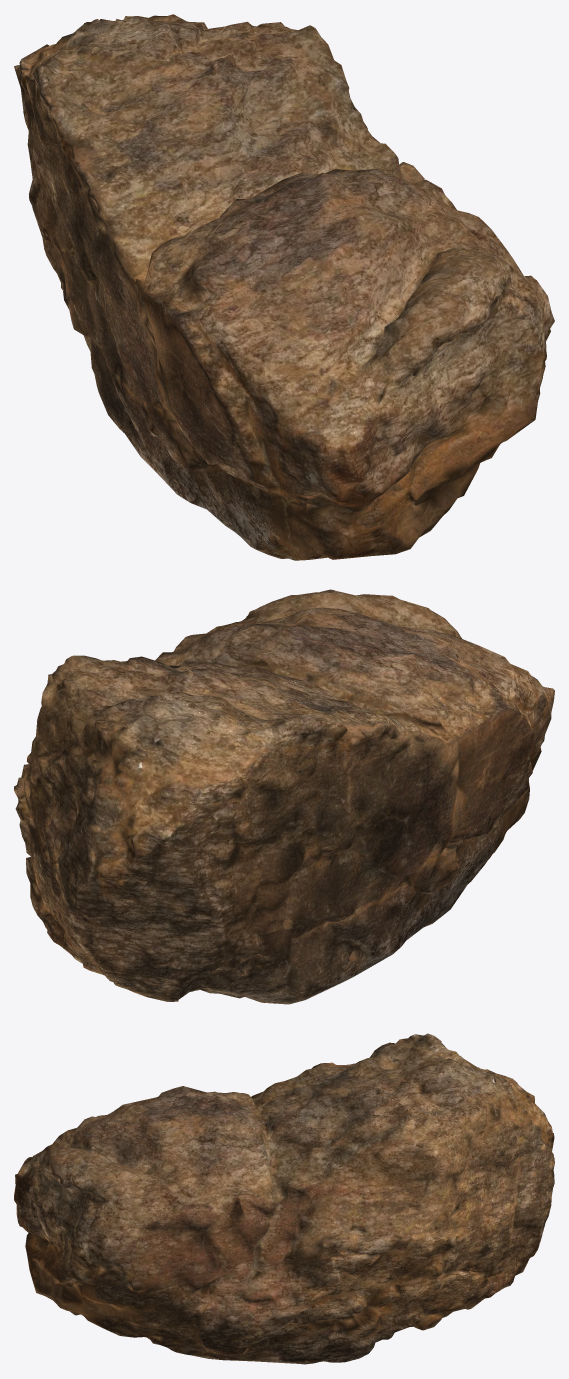
Rendered from desert_boulder_brown.glb.
3 views of the same model, one above another, from view 1: azimuth 30°, elevation 25°; view 2: azimuth 150°, elevation 25°; view 3: azimuth 270°, elevation 25° (orthographic). The views are drawn at different scales.
Parts seen in each view (by area): view 1: namaqualand_boulder_06; view 2: namaqualand_boulder_06; view 3: namaqualand_boulder_06.
Boxes of the visible parts, <box> form: namaqualand_boulder_06: <box>14,14,554,560</box>; namaqualand_boulder_06: <box>14,589,554,1004</box>; namaqualand_boulder_06: <box>14,1033,554,1364</box>.
Size of the model in its own units: 0.6724 by 0.6494 by 1.21.
1 material, 1 textured.
